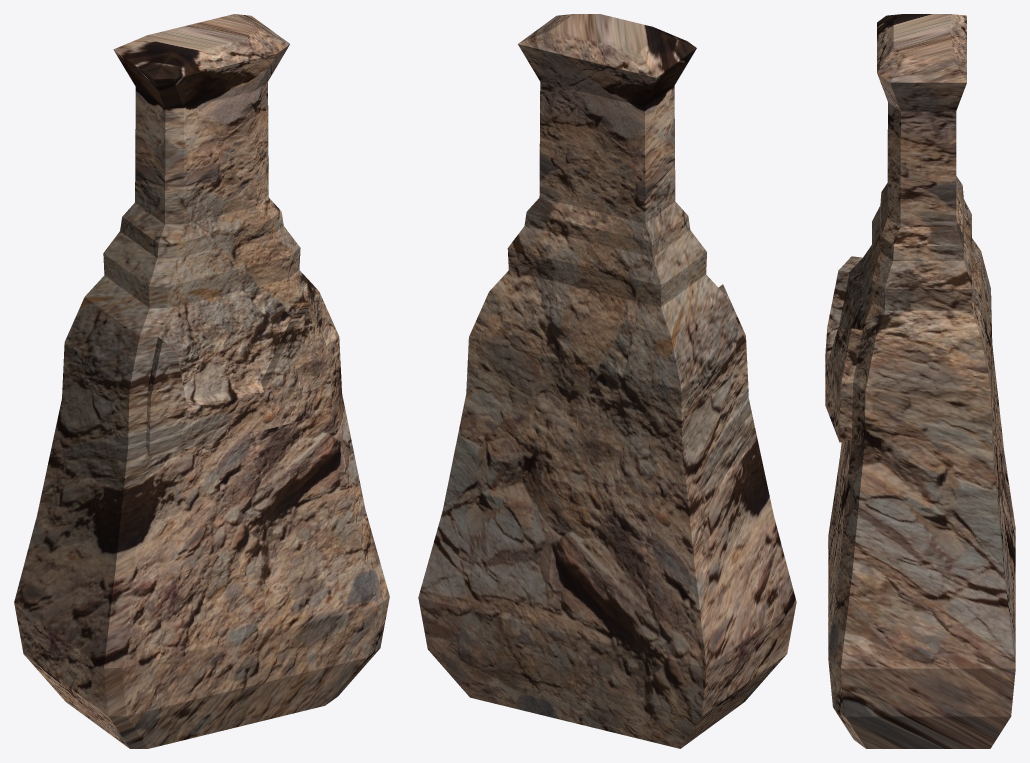
File: Monk1Textured.fbx
3 views of the same model, side by side, from view 1: azimuth 30°, elevation 25°; view 2: azimuth 150°, elevation 25°; view 3: azimuth 270°, elevation 25° (orthographic).
Visible parts, largest first — view 1: Cube; view 2: Cube; view 3: Cube.
Boxes of the visible parts, box(x1,y1,x2,y2) form: Cube: box(14, 14, 389, 748); Cube: box(418, 14, 796, 748); Cube: box(825, 14, 1015, 748).
Size of the model in its own units: 383 by 847 by 221.
Materials: 1 (1 with a texture image).
